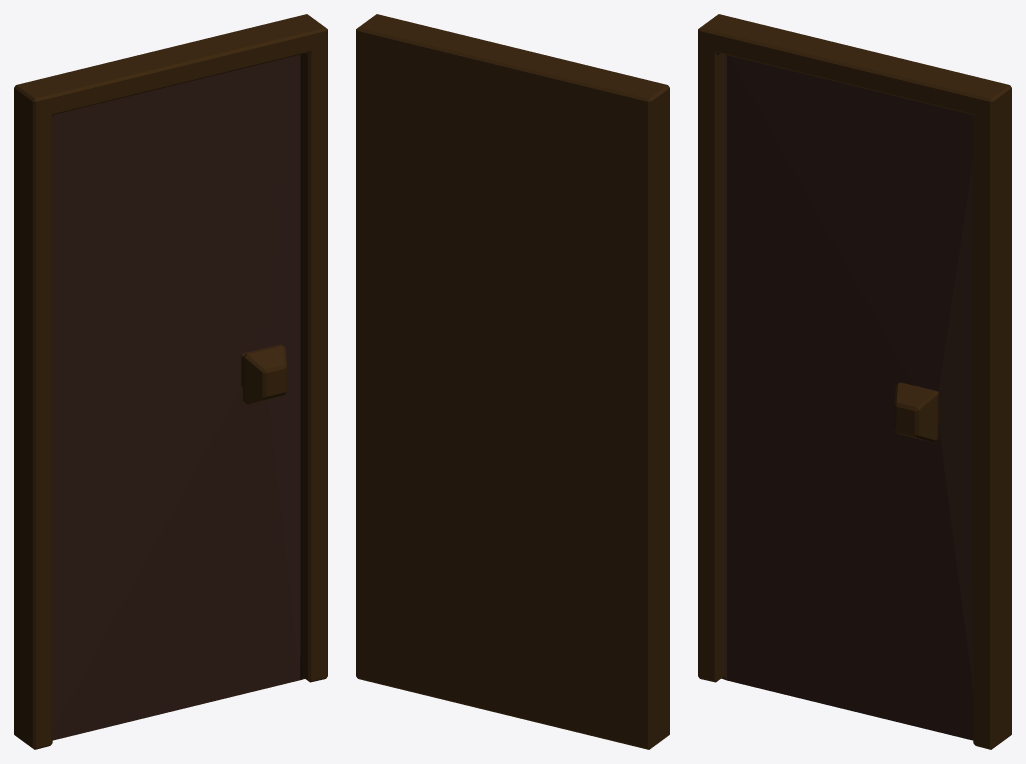
The model's file is F_Door.fbx.
The picture shows the model from 3 angles, left to right: view 1: azimuth 30°, elevation 25°; view 2: azimuth 150°, elevation 25°; view 3: azimuth 330°, elevation 25°; orthographic projection.
Visible parts, largest first — view 1: F_Door; view 2: F_Door; view 3: F_Door.
Part boxes in pixels (bbox=[...]): F_Door: bbox=[14, 14, 327, 749]; F_Door: bbox=[356, 14, 669, 749]; F_Door: bbox=[698, 14, 1011, 749].
Bounding box in the file's own units: 543 × 1148 × 120.
